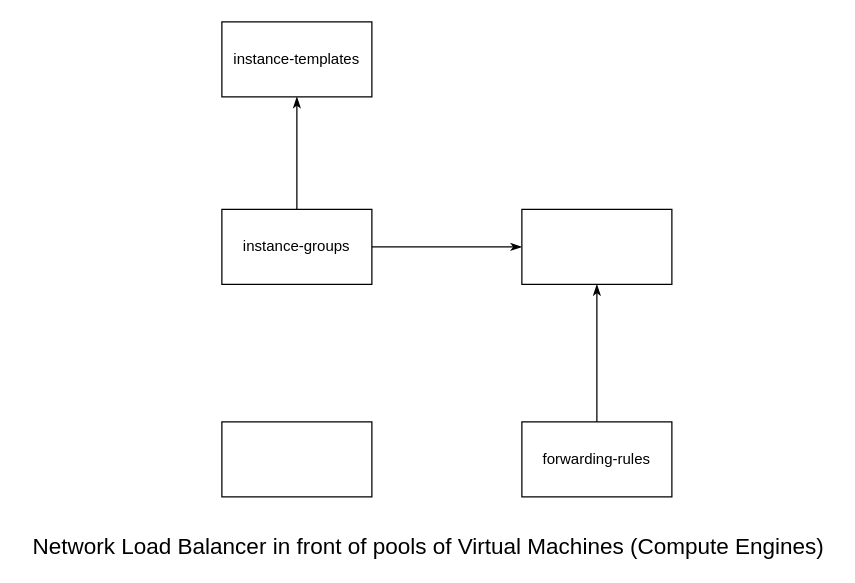
Image size: 855x583. Some labels were removed from this diagram. The centre of each missing label's shape, as x and y in pixels:
firewall-rules: (x=296, y=459)
target-pools: (x=596, y=246)
